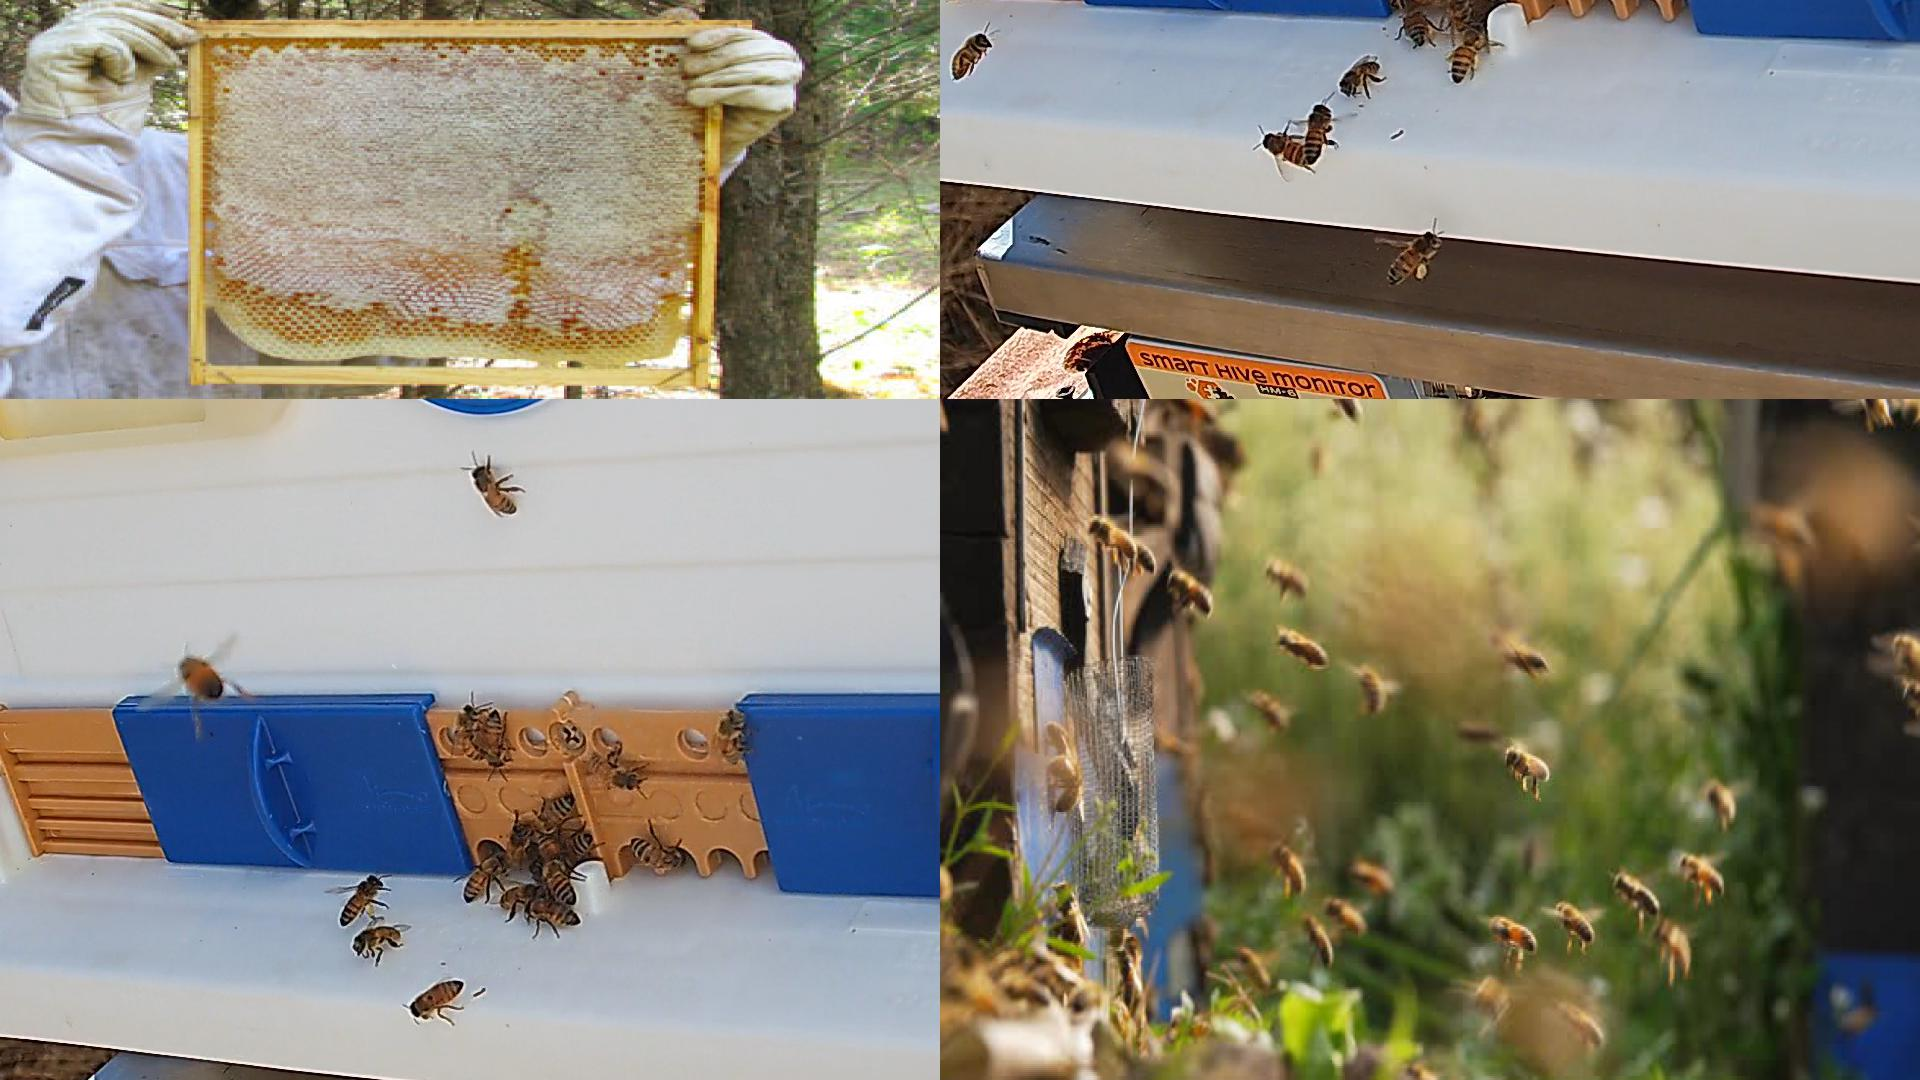bee: (471, 464, 518, 512), (1166, 571, 1215, 617), (583, 753, 644, 787), (409, 980, 463, 1017), (464, 852, 504, 901), (1614, 874, 1659, 916), (1047, 760, 1084, 810), (1305, 102, 1335, 164), (953, 30, 989, 80), (1681, 853, 1726, 893), (535, 795, 578, 836), (1560, 1002, 1602, 1043), (1656, 926, 1691, 976), (633, 836, 687, 868), (1122, 936, 1145, 1009), (181, 657, 223, 695), (454, 704, 483, 760), (542, 858, 576, 905), (1489, 916, 1536, 949), (1263, 129, 1305, 166), (1278, 633, 1327, 665), (1304, 915, 1333, 968), (1557, 902, 1594, 942), (1894, 670, 1919, 727), (1238, 948, 1270, 993), (1506, 749, 1548, 782), (485, 708, 509, 766), (1451, 0, 1491, 32), (1705, 781, 1737, 822), (1265, 562, 1305, 593), (1276, 848, 1305, 891), (721, 708, 744, 764), (352, 927, 401, 952), (1340, 58, 1377, 91), (1047, 723, 1079, 761), (524, 905, 580, 926), (1329, 898, 1365, 931), (1350, 864, 1389, 891), (530, 831, 563, 862), (562, 833, 595, 865), (502, 886, 546, 910), (1361, 670, 1386, 711), (1503, 651, 1548, 673), (1403, 5, 1427, 45), (512, 824, 531, 869), (1253, 690, 1280, 721), (1863, 400, 1895, 427), (1896, 633, 1919, 667), (1472, 0, 1509, 15), (1336, 400, 1362, 419), (1904, 400, 1919, 422)
pollenbee: (1387, 232, 1440, 285), (1451, 18, 1490, 76), (339, 877, 382, 924), (1088, 520, 1138, 559), (1118, 535, 1158, 574)
